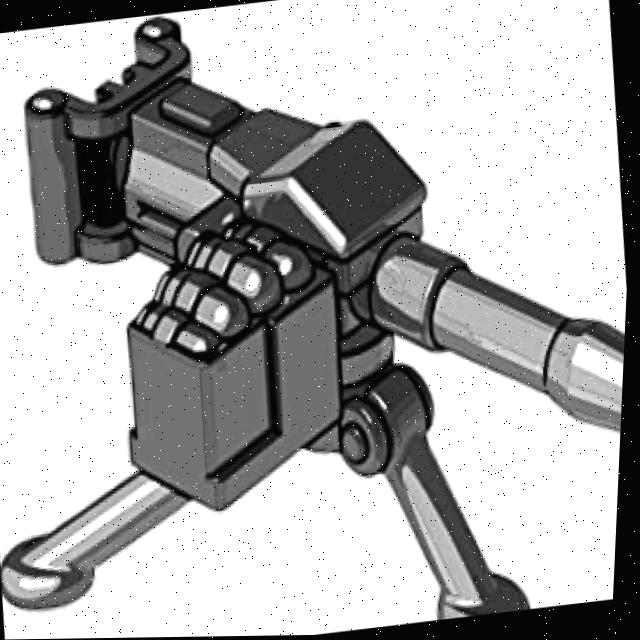grenade: (179, 221, 288, 326), (148, 258, 257, 356), (219, 206, 318, 300), (130, 294, 227, 366)
rocket: (0, 0, 640, 640)
